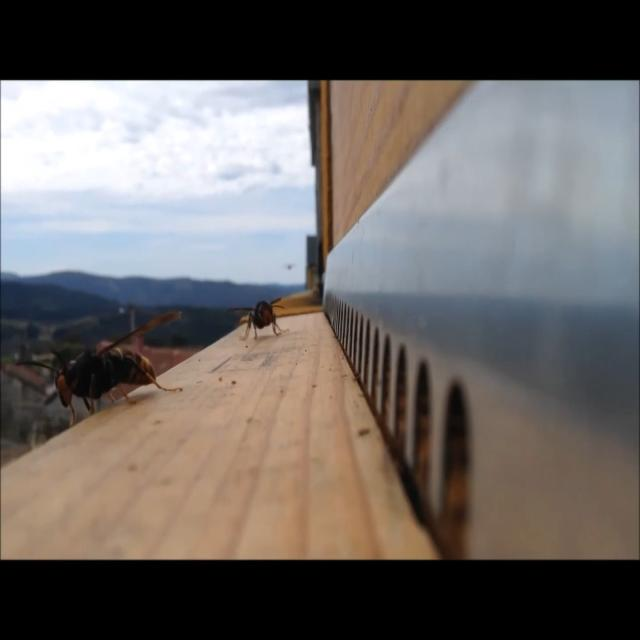Hornets: (22, 309, 185, 425), (222, 292, 294, 346)
